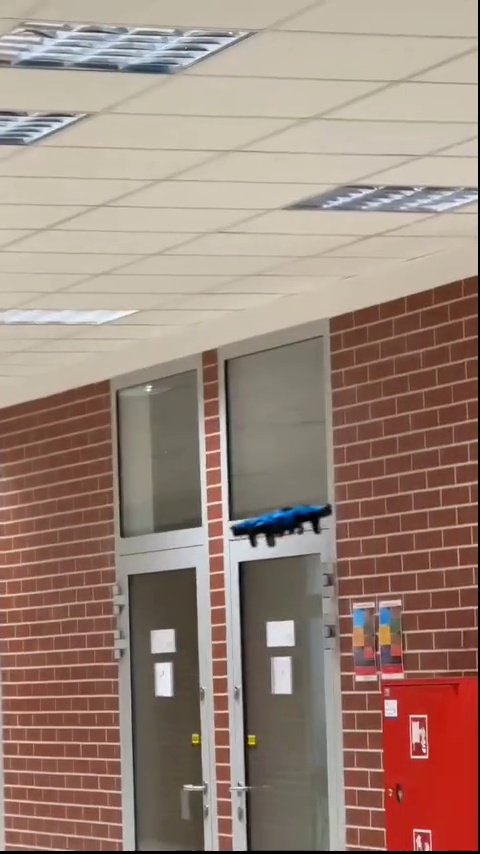drone: (234, 500, 331, 539)
